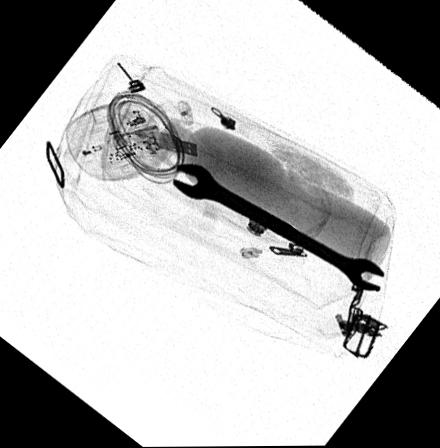Wrench: (172, 162, 387, 293)
